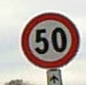limite 50: (20, 11, 79, 69)
